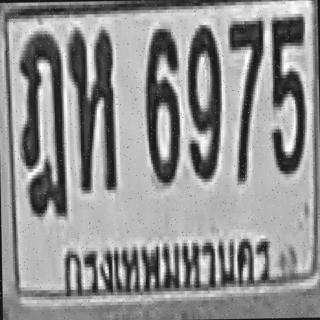A14: (18, 30, 65, 214)
A41: (68, 27, 114, 190)
N05: (269, 15, 307, 176)
N06: (143, 25, 178, 183)
N07: (227, 17, 265, 181), (227, 18, 265, 152)
N09: (186, 25, 221, 179)
P04: (60, 225, 282, 307)
